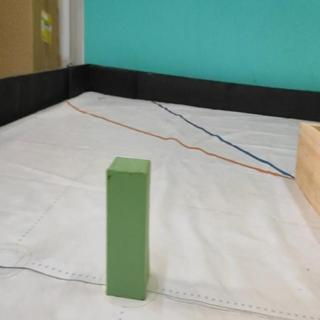greenbox: (105, 156, 150, 301)
